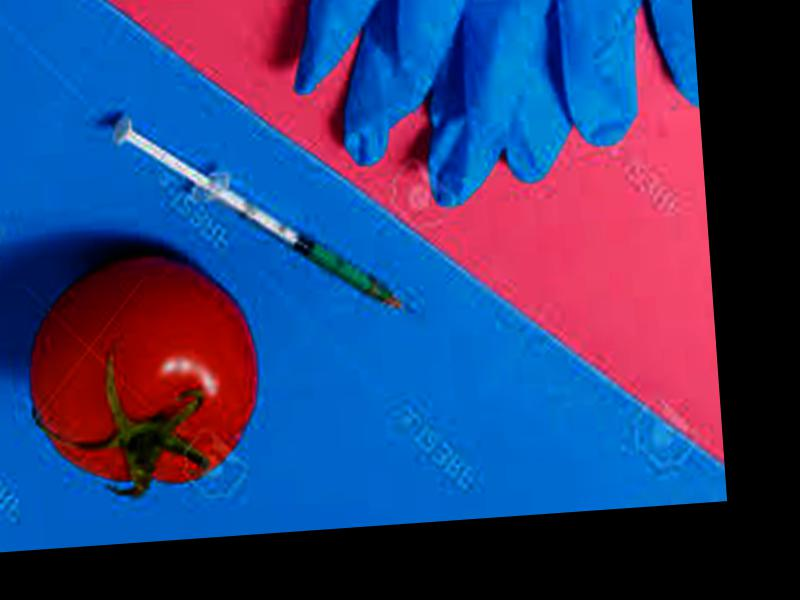Tomato: (25, 245, 264, 489)
